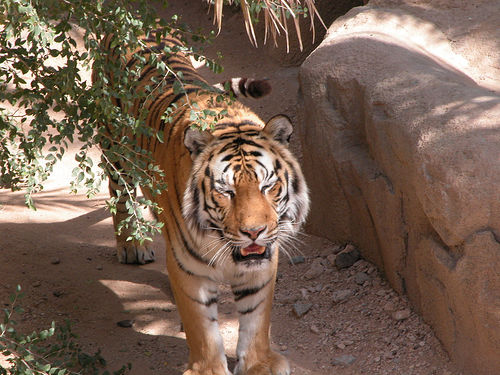Tigre: (95, 32, 316, 368)
